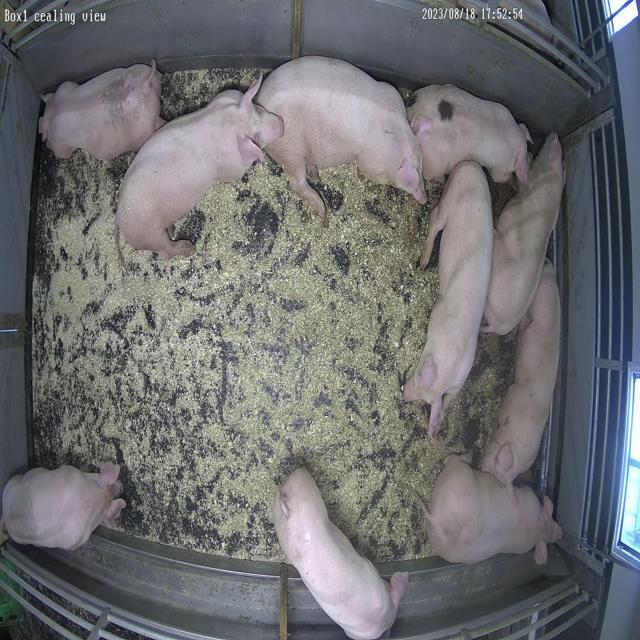Pig: (116, 76, 284, 258), (257, 56, 427, 216), (404, 161, 495, 436), (274, 469, 409, 640), (482, 261, 562, 488), (482, 132, 567, 334), (426, 456, 563, 565), (38, 60, 164, 160), (408, 84, 533, 184), (2, 464, 125, 550)
